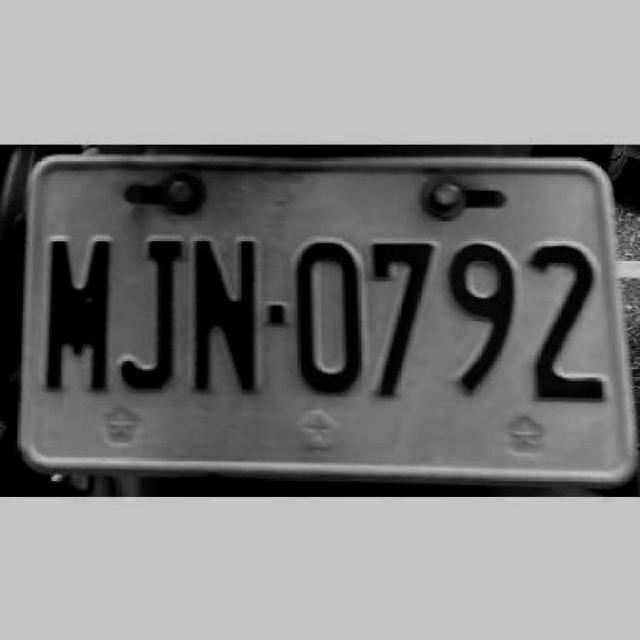-: (269, 298, 288, 322)
0: (291, 237, 363, 392)
2: (526, 237, 605, 408)
7: (366, 237, 436, 403)
9: (446, 240, 520, 400)
J: (119, 232, 186, 391)
M: (41, 232, 116, 398)
N: (188, 234, 262, 394)
